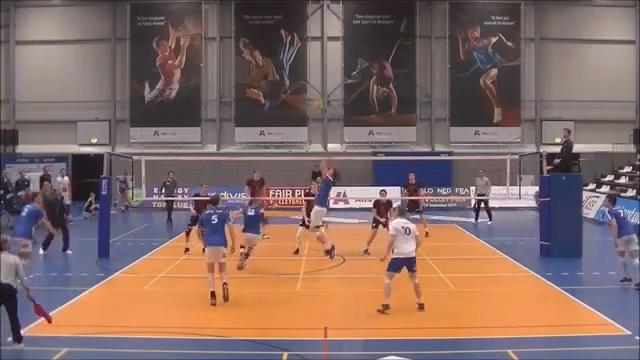Player: (377, 206, 424, 313), (198, 194, 234, 305), (603, 194, 639, 289), (12, 201, 54, 263), (363, 189, 392, 254), (293, 181, 317, 254), (184, 184, 208, 253), (237, 203, 261, 270), (245, 170, 268, 239), (403, 173, 428, 236)
Set: (305, 153, 337, 260)
ball: (309, 97, 323, 114)
